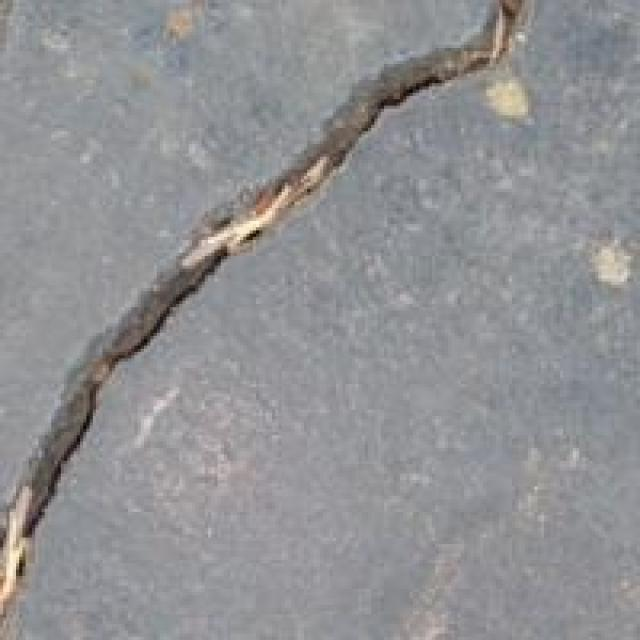crack: (3, 3, 509, 608)
